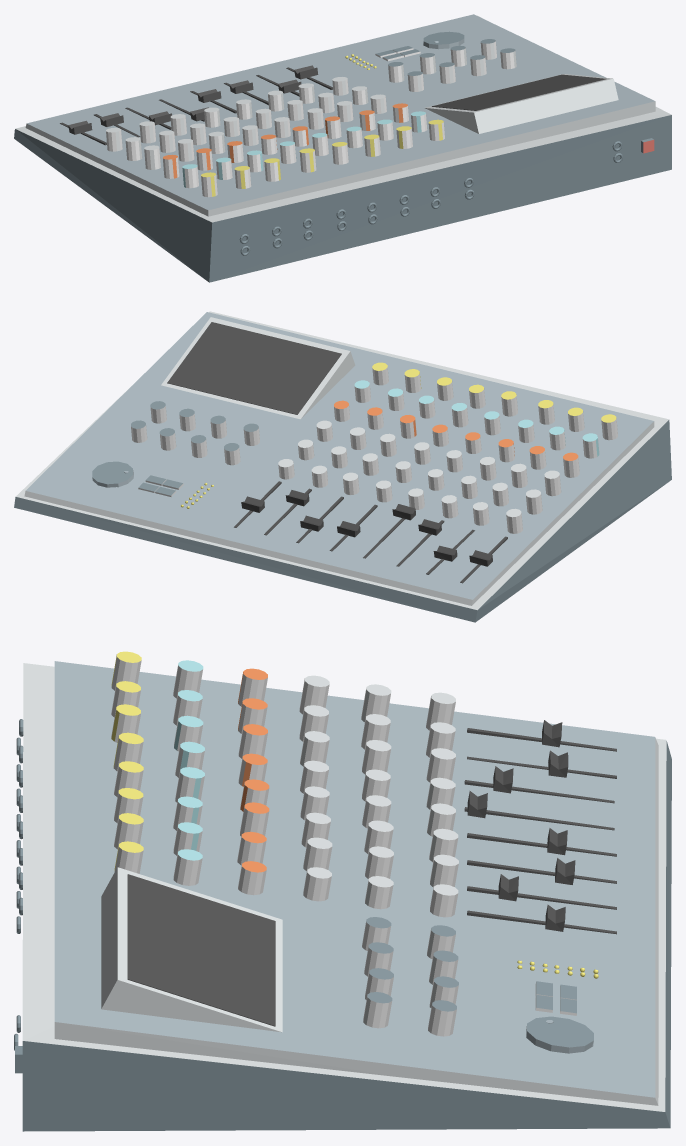
3 renders of one model, top to bottom at view 1: azimuth 30°, elevation 25°; view 2: azimuth 150°, elevation 25°; view 3: azimuth 270°, elevation 25°, orthographic. The views are drawn at different scales.
Visible parts, largest first — view 1: group1044398291, group46021557, group1285066321, group79297576, group585407428; view 2: group1044398291, group46021557, group79297576, group1285066321, group585407428; view 3: group1044398291, group46021557, group79297576, group1285066321, group585407428, group1928956943, group1691023472, group604880534, group944311541, group1115758431, group916088644, group1304572911 (+45 smaller).
Part boxes in pixels (left/top/right/bottom): group1044398291: left=25, top=14, right=655, bottom=216; group46021557: left=14, top=15, right=671, bottom=282; group1285066321: left=424, top=74, right=618, bottom=133; group79297576: left=432, top=74, right=606, bottom=110; group585407428: left=423, top=31, right=464, bottom=49; group1044398291: left=24, top=312, right=654, bottom=605; group46021557: left=14, top=311, right=671, bottom=622; group79297576: left=167, top=322, right=341, bottom=414; group1285066321: left=161, top=317, right=355, bottom=419; group585407428: left=92, top=461, right=133, bottom=487; group1044398291: left=54, top=661, right=658, bottom=1105; group46021557: left=22, top=663, right=671, bottom=1131; group79297576: left=127, top=874, right=275, bottom=1026; group1285066321: left=101, top=867, right=282, bottom=1032; group585407428: left=526, top=1016, right=593, bottom=1053; group1928956943: left=173, top=849, right=202, bottom=885; group1691023472: left=363, top=992, right=392, bottom=1028; group604880534: left=428, top=1000, right=456, bottom=1036; group944311541: left=303, top=867, right=331, bottom=901; group1115758431: left=238, top=861, right=266, bottom=895; group916088644: left=111, top=651, right=141, bottom=690; group1304572911: left=299, top=675, right=329, bottom=714.
Bounding box in the file's own units: 3.44 × 0.5546 × 2.57.
